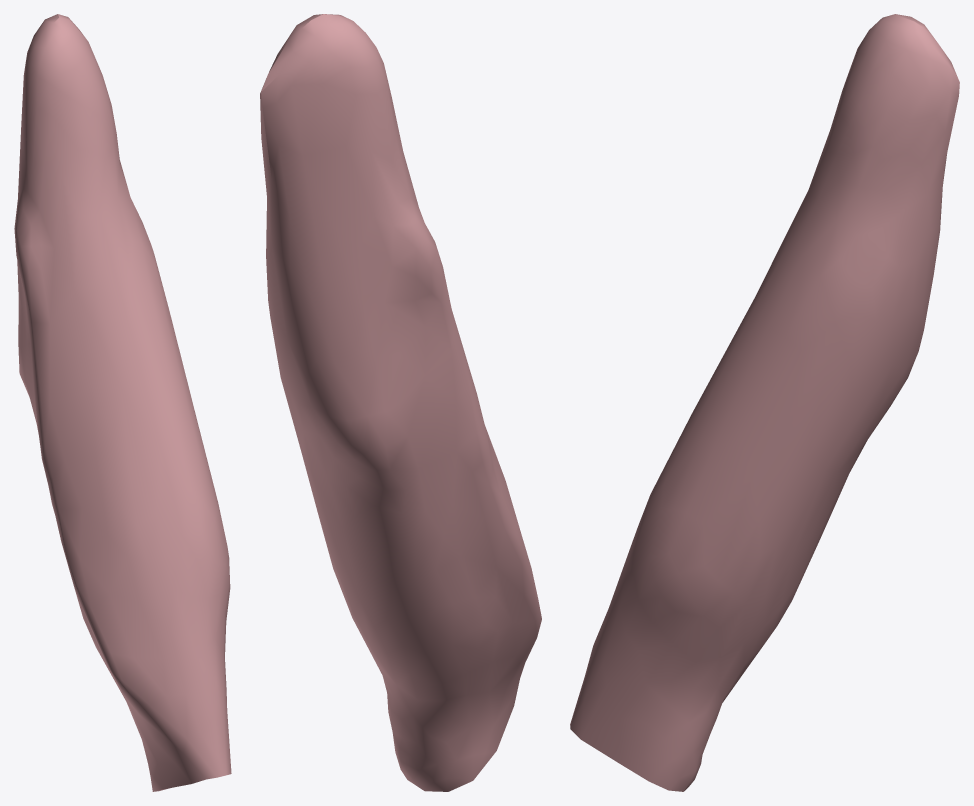
The model's file is fma46196_mm1944m.glb.
The picture shows the model from 3 angles, left to right: view 1: azimuth 30°, elevation 25°; view 2: azimuth 150°, elevation 25°; view 3: azimuth 270°, elevation 25°; orthographic projection. The views are drawn at different scales.
Visible parts, largest first — view 1: FMA46196_MM1944M; view 2: FMA46196_MM1944M; view 3: FMA46196_MM1944M.
Part boxes in pixels (box(x1,y1,x2,y2)): FMA46196_MM1944M: box(14, 14, 231, 791); FMA46196_MM1944M: box(260, 14, 541, 791); FMA46196_MM1944M: box(570, 14, 959, 791).
Size of the model in its own units: 0.00887 by 0.0406 by 0.0188.
